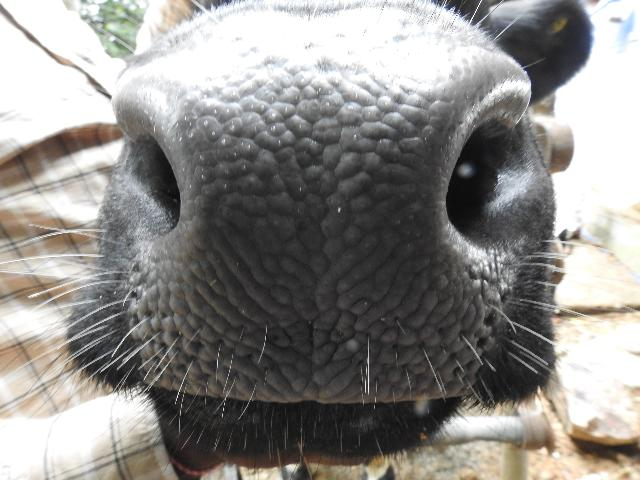Muzzle: (185, 79, 428, 395)
